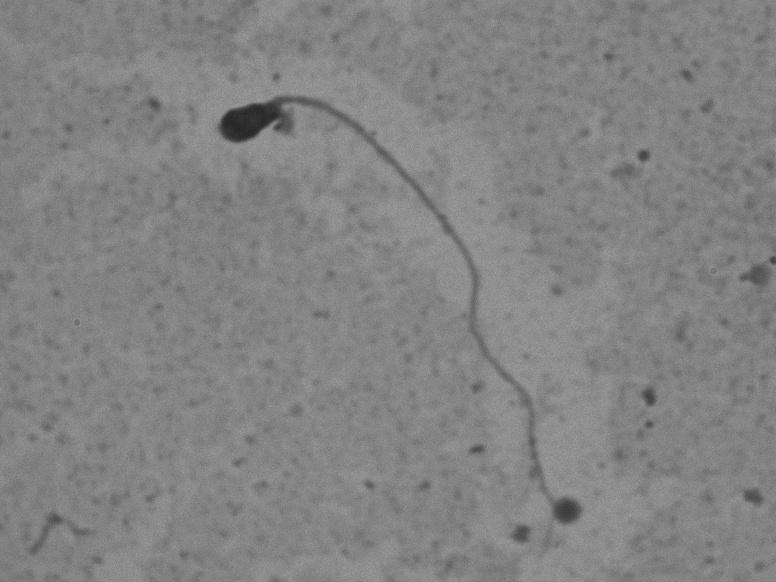Abnormal: (187, 59, 597, 482)
